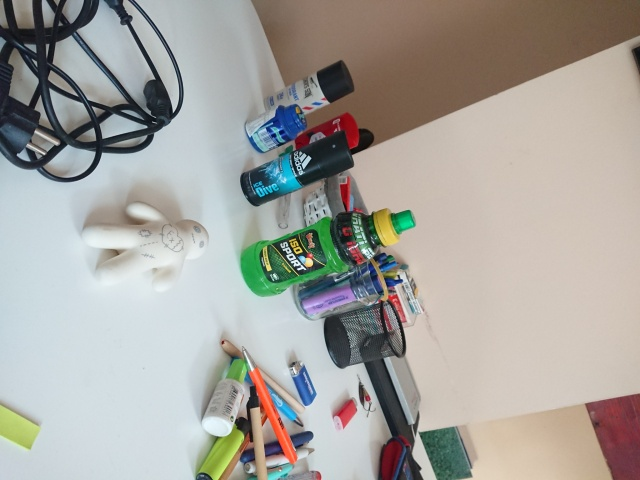Vindi Iso Sport Lemon-Grapefruit 500mL: (237, 206, 418, 300)
